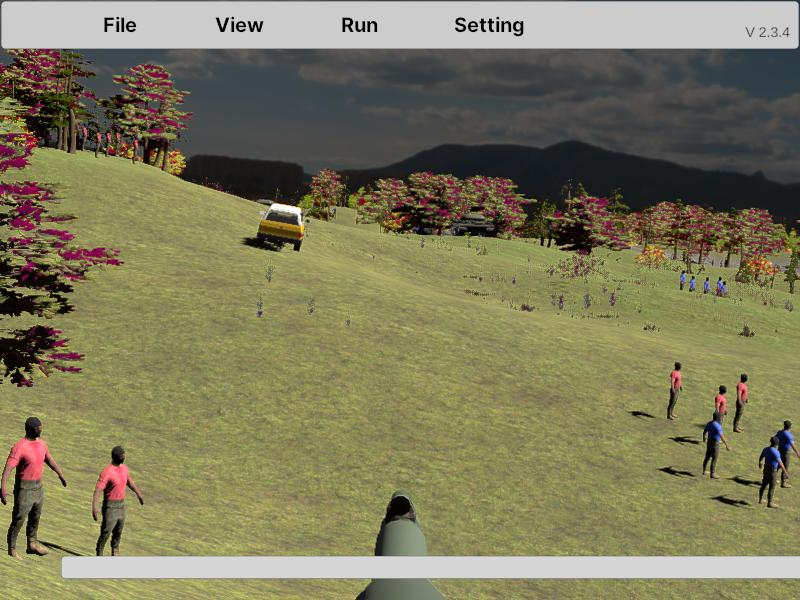Human: (1, 415, 67, 559), (91, 446, 144, 557), (758, 435, 788, 509), (773, 419, 800, 491), (703, 410, 729, 479), (667, 360, 683, 420), (733, 373, 749, 433), (714, 383, 729, 443)
car: (256, 202, 304, 252)
